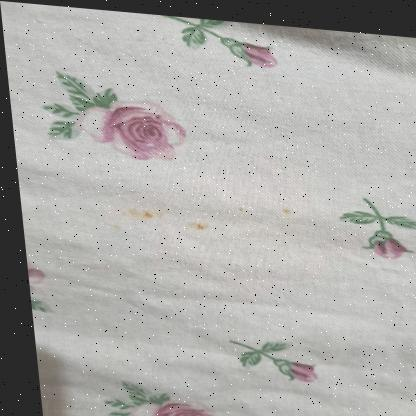spot: (106, 202, 156, 230), (179, 212, 215, 234), (271, 200, 292, 215), (228, 198, 247, 213)
